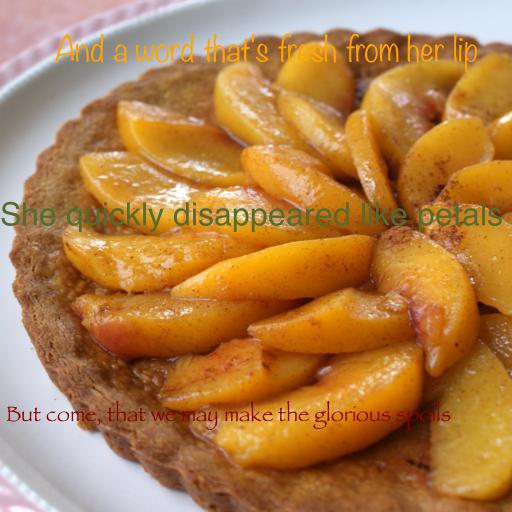Noteworthy: (54, 33, 478, 73)
Papyrus: (5, 400, 451, 432)
SignPainter: (0, 201, 503, 233)
